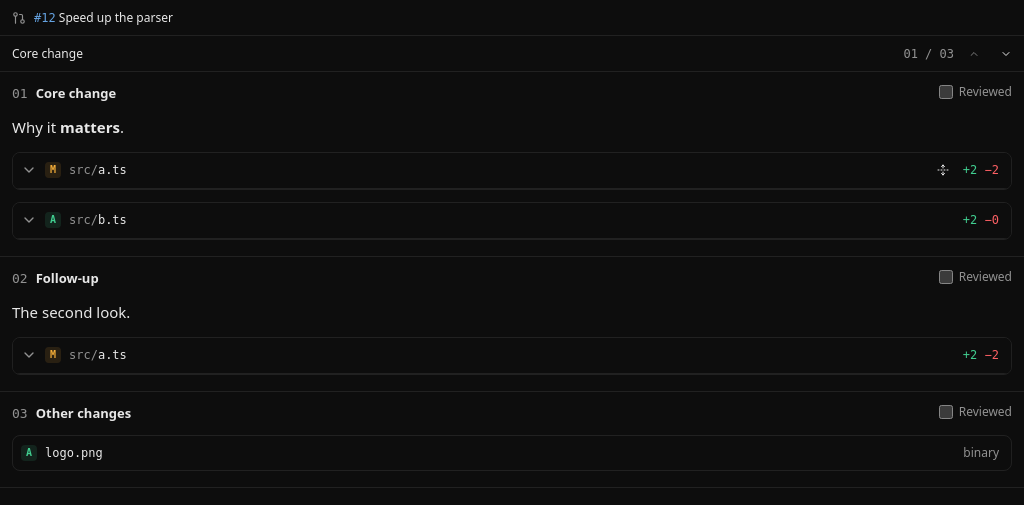
Test: GuideView › names the current section in the sticky bar; prev and next scroll to the neighbours
Expected: the heading "01Core change" is shown, x1=12 y1=84 x2=116 y2=102
Expected: the element with test id "guide-bar" reads "Core change 01 / 03", x1=0 y1=36 x2=1023 y2=72
Click the button named "Next section".
click(1006, 54)  # box x1=994 y1=42 x2=1018 y2=66
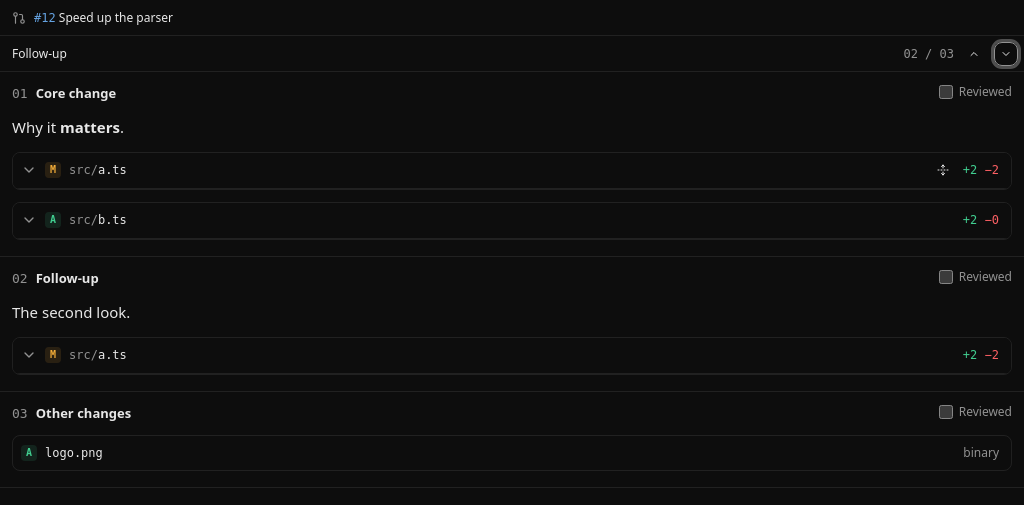
Expected: the element with test id "guide-bar" reads "Follow-up 02 / 03", x1=0 y1=36 x2=1023 y2=72
Click the button named "Next section".
click(1006, 54)  # box x1=994 y1=42 x2=1018 y2=66
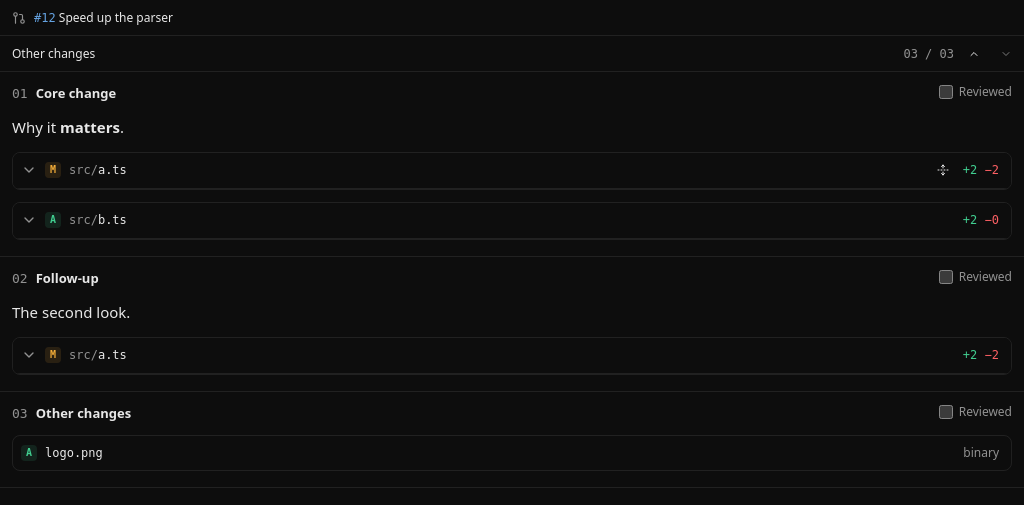
Expected: the element with test id "guide-bar" reads "Other changes 03 / 03", x1=0 y1=36 x2=1023 y2=72
Expected: the button named "Next section" is disabled, x1=994 y1=42 x2=1018 y2=66
Click the button named "Previous section".
click(974, 54)  # box x1=962 y1=42 x2=986 y2=66
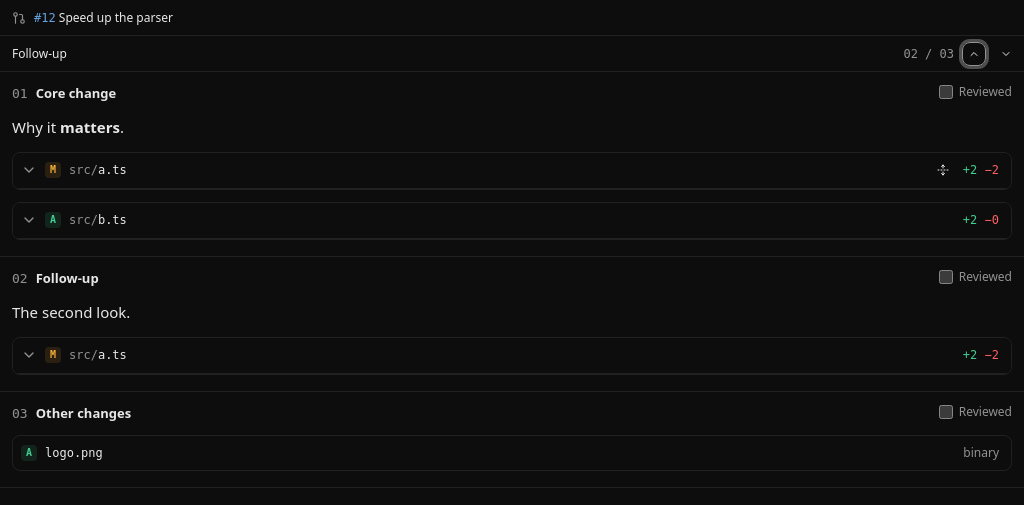
Expected: the element with test id "guide-bar" reads "Follow-up 02 / 03", x1=0 y1=36 x2=1023 y2=72
